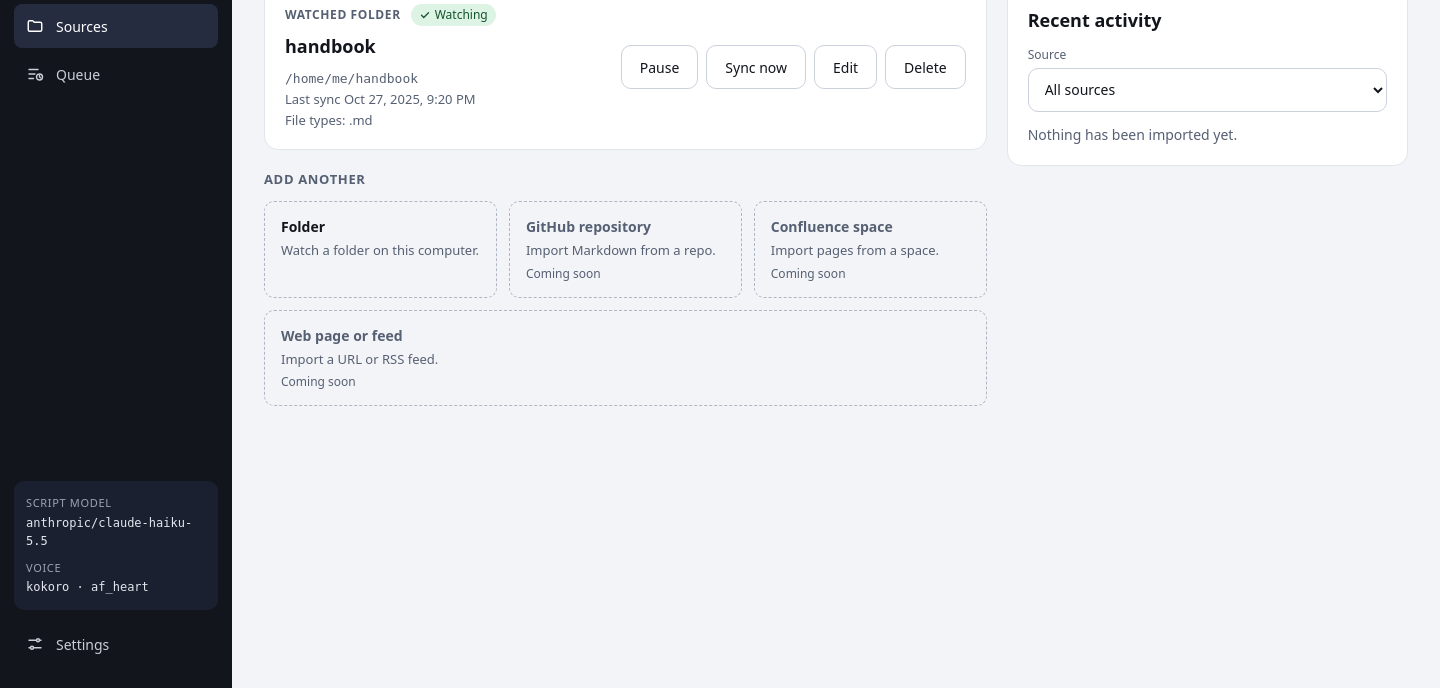
Scenario: a source's import rules › keeps the last file type and resets file types to the default
This screenshot has width=1440, height=688.
Click the button "Edit": point(846, 67) [814,45,877,89]
(page scrolled)
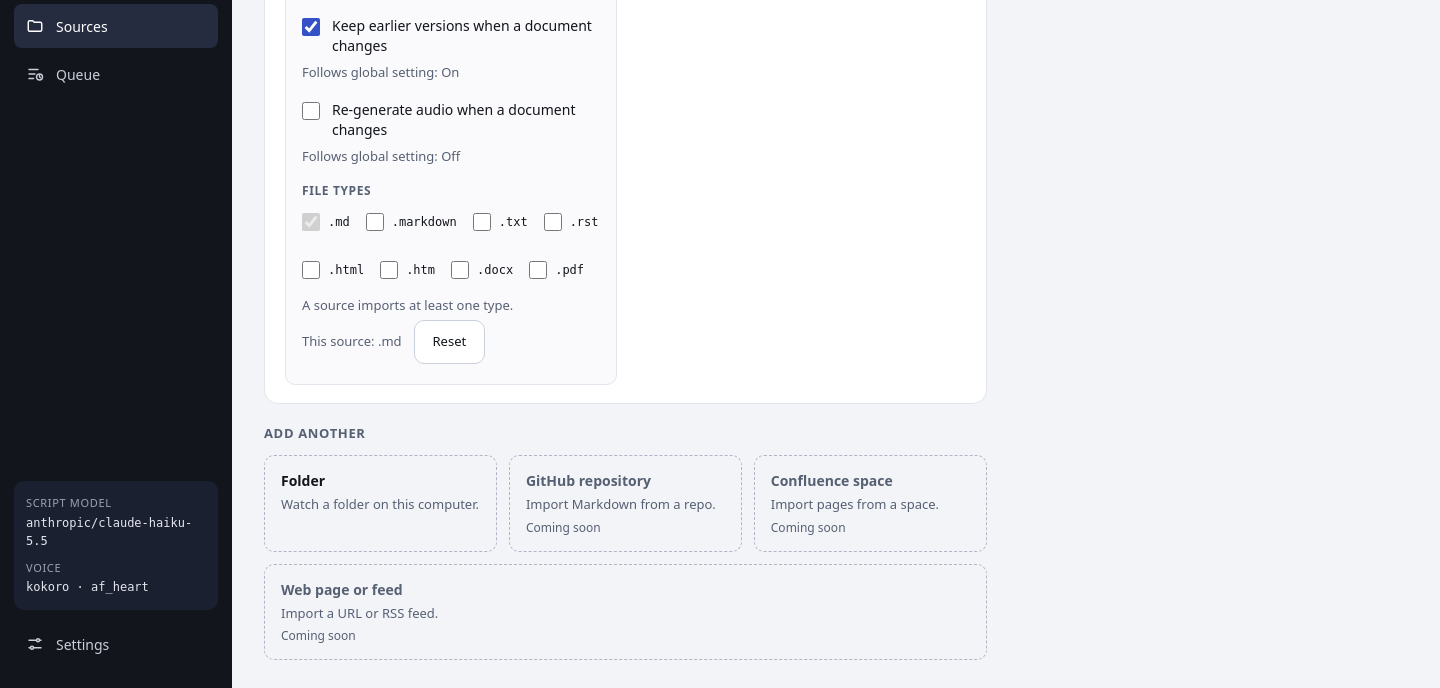
Expected: the checkbox labelled ".md" is disabled, [302,214,320,232]
Expected: the text "A source imports at least one type." is shown, [302,296,513,314]
Click the button named "Reset File types": point(449, 342) [414,320,485,364]
(page scrolled)
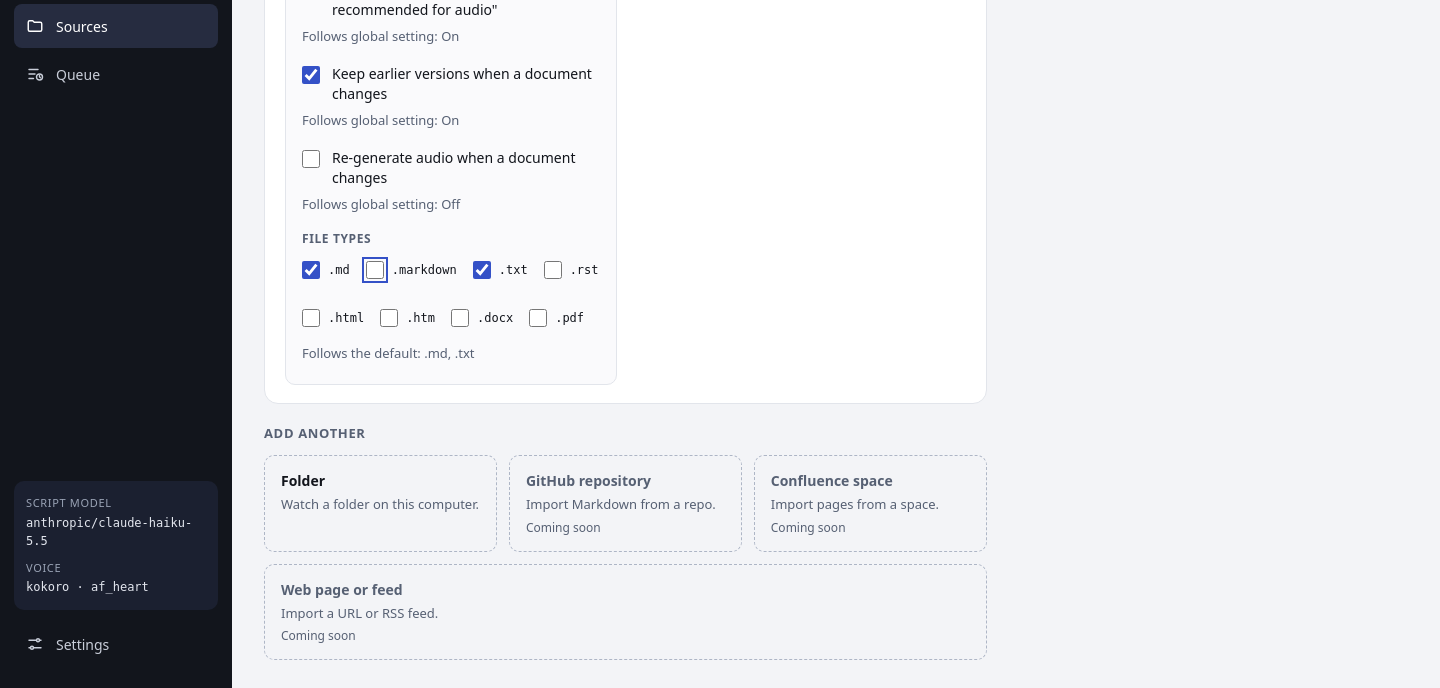
Expected: the text "Follows the default: .md, .txt" is shown, [302,344,474,364]
Expected: the checkbox labelled ".md" is enabled, [302,262,320,280]
